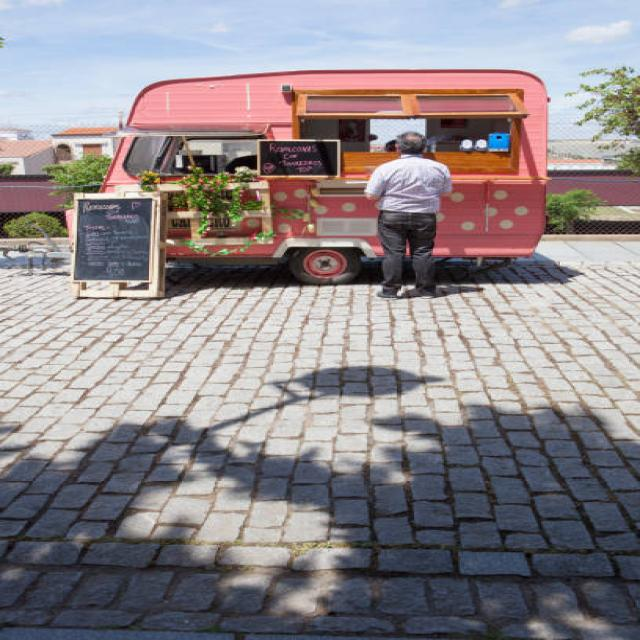Emperan: (56, 72, 563, 311)
